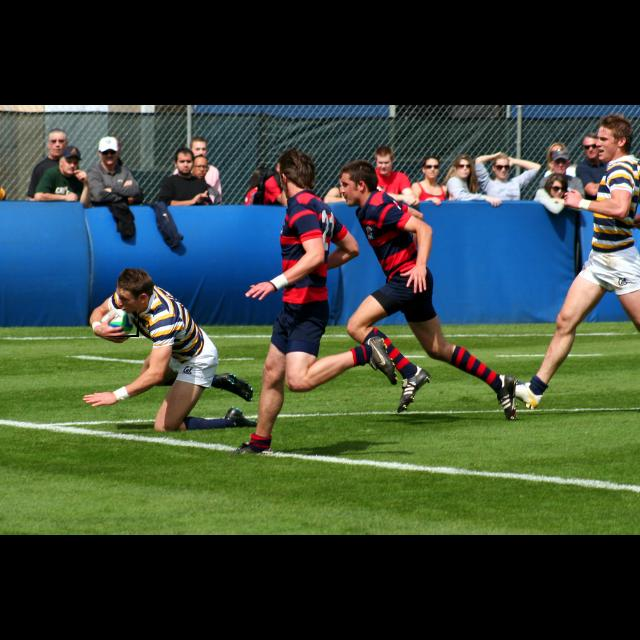Football: (101, 309, 139, 337)
